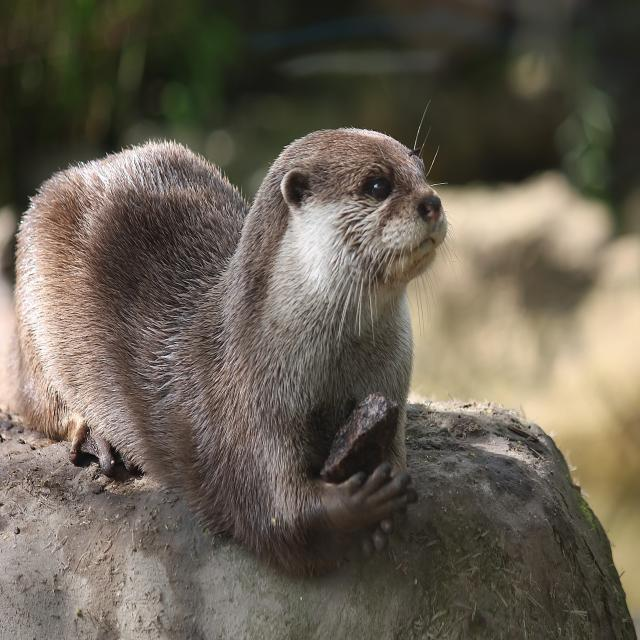otter: (18, 123, 448, 545)
